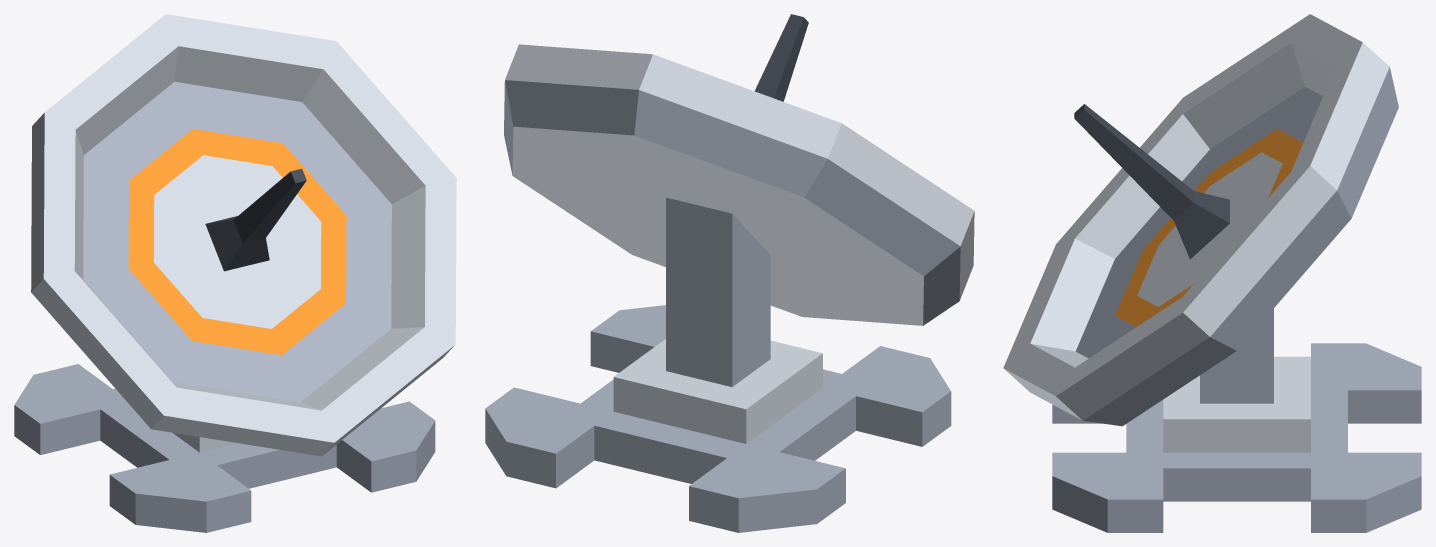
File: SatelliteDish.fbx
3 views of the same model, side by side, from view 1: azimuth 30°, elevation 25°; view 2: azimuth 150°, elevation 25°; view 3: azimuth 270°, elevation 25° (orthographic). The views are drawn at different scales.
Visible parts, largest first — view 1: mergedBlocks; view 2: mergedBlocks; view 3: mergedBlocks.
Part boxes in pixels (x1,y1,x2,y2): mergedBlocks: [14, 14, 456, 532]; mergedBlocks: [485, 14, 974, 532]; mergedBlocks: [1003, 14, 1421, 532].
Bounding box in the file's own units: 27.54 × 24.66 × 22.66.
